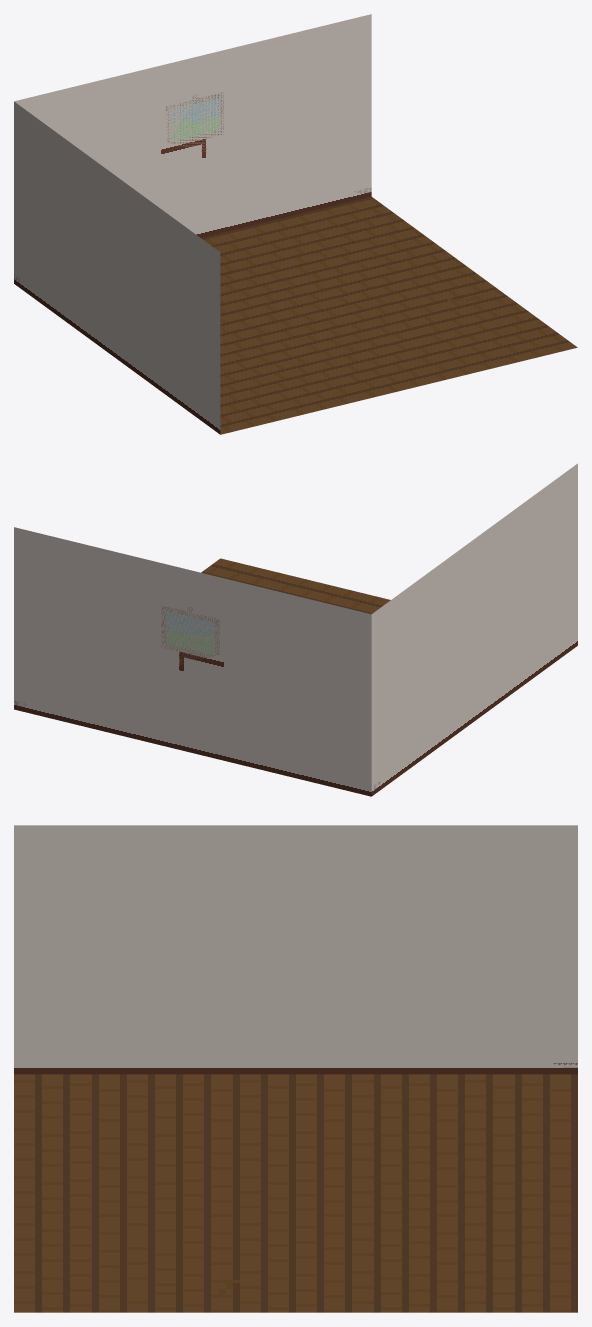
Rendered from house_one.gltf.
3 renders of one model, top to bottom at view 1: azimuth 30°, elevation 25°; view 2: azimuth 150°, elevation 25°; view 3: azimuth 270°, elevation 25°, orthographic. The views are drawn at different scales.
Parts seen in each view (by area): view 1: Walls, plane; view 2: Walls, plane; view 3: Walls, plane.
Boxes of the visible parts, box(x1,y1,x2,y2) form: Walls: box(14, 14, 371, 434); plane: box(201, 196, 577, 434); Walls: box(14, 463, 577, 796); plane: box(201, 558, 390, 614); Walls: box(14, 825, 577, 1074); plane: box(14, 1074, 577, 1312).
Size of what is drawn, in the model's own units: 5 by 2.44 by 5.
Materials: 3 (3 with a texture image).
